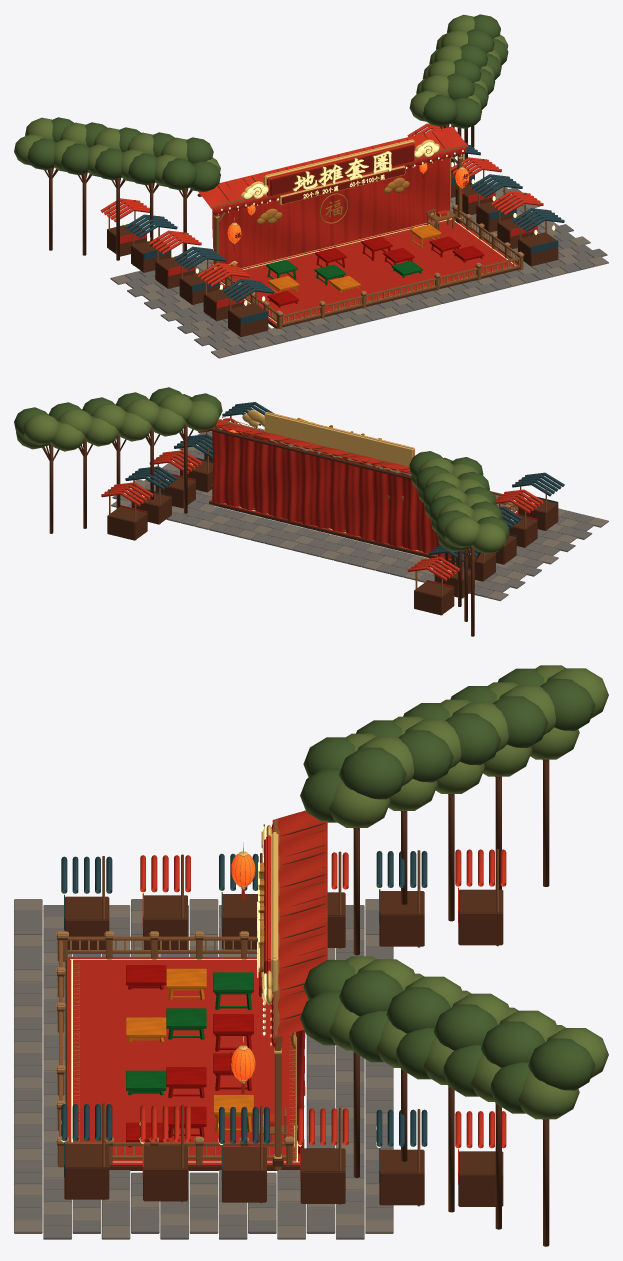
Rendered from hi3d-fair-full3d.glb.
3 views of the same model, one above another, from view 1: azimuth 30°, elevation 25°; view 2: azimuth 150°, elevation 25°; view 3: azimuth 270°, elevation 25° (orthographic). The views are drawn at different scales.
Parts seen in each view (by area): view 1: pleated_velvet_backdrop, surrounding_night_market_桂树深绿, carpet_solid_thickness, surrounding_night_market_旧木阴面, stage_and_paving_夜市青石, surrounding_night_market_桂树叶梢, surrounding_night_market_靛青摊幔, stage_and_paving_温暖石板, surrounding_night_market_朱漆立体招牌, billowing_red_canopy, carved_three_dimensional_sign_绛红绒布, carved_three_dimensional_sign_字面暖金 (+12 smaller); view 2: pleated_velvet_backdrop, surrounding_night_market_桂树叶梢, surrounding_night_market_旧木阴面, stage_and_paving_夜市青石, surrounding_night_market_桂树深绿, stage_and_paving_温暖石板, carved_three_dimensional_sign_鎏金雕饰, surrounding_night_market_靛青摊幔, surrounding_night_market_朱漆立体招牌, billowing_red_canopy, timber_pavilion_and_canopy_旧木阴面, stage_wooden_foundation (+2 smaller); view 3: surrounding_night_market_桂树深绿, surrounding_night_market_旧木阴面, stage_and_paving_夜市青石, carpet_solid_thickness, surrounding_night_market_桂树叶梢, stage_and_paving_温暖石板, billowing_red_canopy, surrounding_night_market_靛青摊幔, surrounding_night_market_朱漆立体招牌, surrounding_night_market_油润榆木, left_timber_fence_油润榆木, carved_three_dimensional_sign_鎏金雕饰 (+16 smaller).
Boxes of the visible parts, bbox=[...] form: pleated_velvet_backdrop: bbox=[212, 157, 451, 271]; surrounding_night_market_桂树深绿: bbox=[27, 14, 508, 191]; carpet_solid_thickness: bbox=[219, 218, 517, 325]; surrounding_night_market_旧木阴面: bbox=[44, 123, 558, 337]; stage_and_paving_夜市青石: bbox=[124, 188, 607, 354]; surrounding_night_market_桂树叶梢: bbox=[14, 14, 508, 185]; surrounding_night_market_靛青摊幔: bbox=[125, 142, 564, 324]; stage_and_paving_温暖石板: bbox=[110, 184, 608, 358]; surrounding_night_market_朱漆立体招牌: bbox=[100, 123, 543, 286]; billowing_red_canopy: bbox=[198, 126, 467, 208]; carved_three_dimensional_sign_绛红绒布: bbox=[270, 145, 413, 203]; carved_three_dimensional_sign_字面暖金: bbox=[244, 142, 439, 198]; pleated_velvet_backdrop: bbox=[212, 428, 451, 558]; surrounding_night_market_桂树叶梢: bbox=[16, 393, 506, 554]; surrounding_night_market_旧木阴面: bbox=[42, 424, 558, 636]; stage_and_paving_夜市青石: bbox=[112, 431, 594, 597]; surrounding_night_market_桂树深绿: bbox=[14, 387, 509, 548]; stage_and_paving_温暖石板: bbox=[111, 431, 608, 601]; carved_three_dimensional_sign_鎏金雕饰: bbox=[242, 410, 424, 472]; surrounding_night_market_靛青摊幔: bbox=[125, 402, 564, 570]; surrounding_night_market_朱漆立体招牌: bbox=[101, 418, 543, 580]; billowing_red_canopy: bbox=[216, 420, 410, 473]; timber_pavilion_and_canopy_旧木阴面: bbox=[207, 424, 411, 479]; stage_wooden_foundation: bbox=[209, 500, 518, 562]; surrounding_night_market_桂树深绿: bbox=[300, 668, 595, 1113]; surrounding_night_market_旧木阴面: bbox=[64, 759, 549, 1246]; stage_and_paving_夜市青石: bbox=[14, 899, 393, 1239]; carpet_solid_thickness: bbox=[67, 957, 300, 1164]; surrounding_night_market_桂树叶梢: bbox=[329, 665, 608, 1119]; stage_and_paving_温暖石板: bbox=[14, 899, 393, 1239]; billowing_red_canopy: bbox=[272, 810, 327, 1038]; surrounding_night_market_靛青摊幔: bbox=[61, 851, 427, 1182]; surrounding_night_market_朱漆立体招牌: bbox=[140, 849, 506, 1148]; surrounding_night_market_油润榆木: bbox=[102, 848, 498, 1206]; left_timber_fence_油润榆木: bbox=[63, 936, 257, 961]; carved_three_dimensional_sign_鎏金雕饰: bbox=[261, 825, 278, 1004].
Size of the model in its own units: 43.63 by 10.71 by 26.43.
23 materials, 3 textured.
